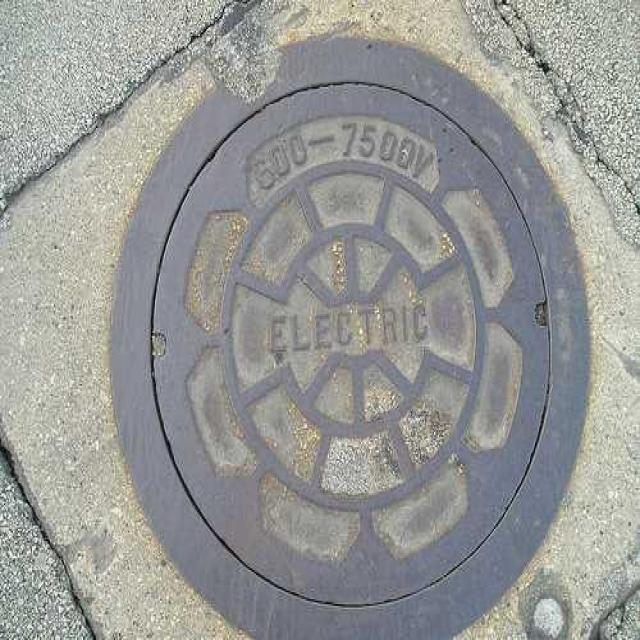manhole: (113, 38, 587, 637)
